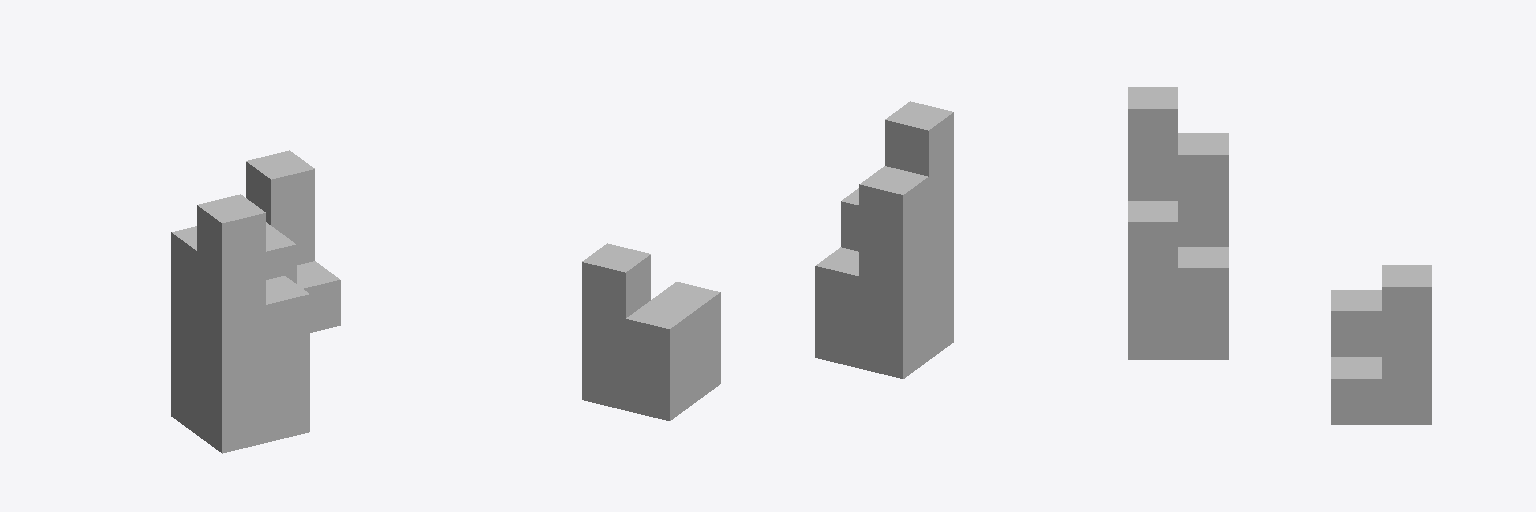
File: sandRocksPillar1-0.obj
3 renders of one model, left to right at view 1: azimuth 30°, elevation 25°; view 2: azimuth 150°, elevation 25°; view 3: azimuth 270°, elevation 25°, orthographic.
Visible parts, largest first — view 1: object 1; view 2: object 1; view 3: object 1.
Part boxes in pixels (bbox=[...]): object 1: bbox=[171, 150, 340, 453]; object 1: bbox=[582, 101, 953, 420]; object 1: bbox=[1128, 87, 1431, 424].
Size of the model in its own units: 0.5 by 0.5 by 0.6.